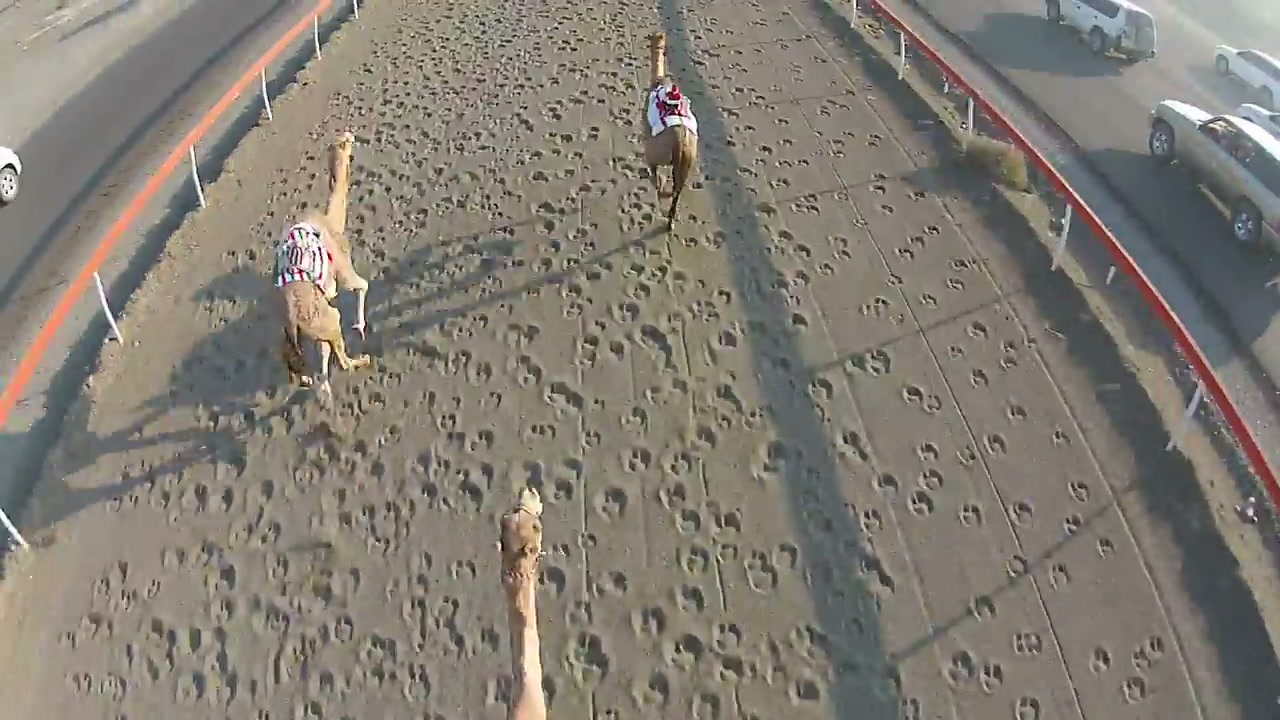animal_foot_print: (0, 0, 1190, 719)
